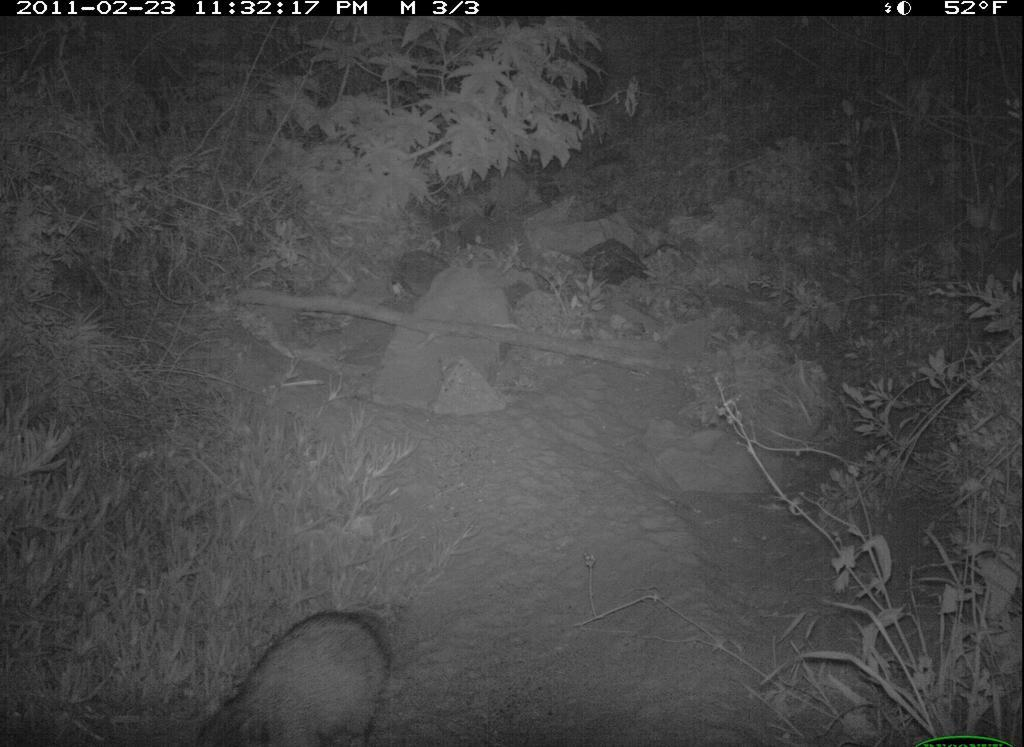raccoon: (187, 600, 402, 747)
